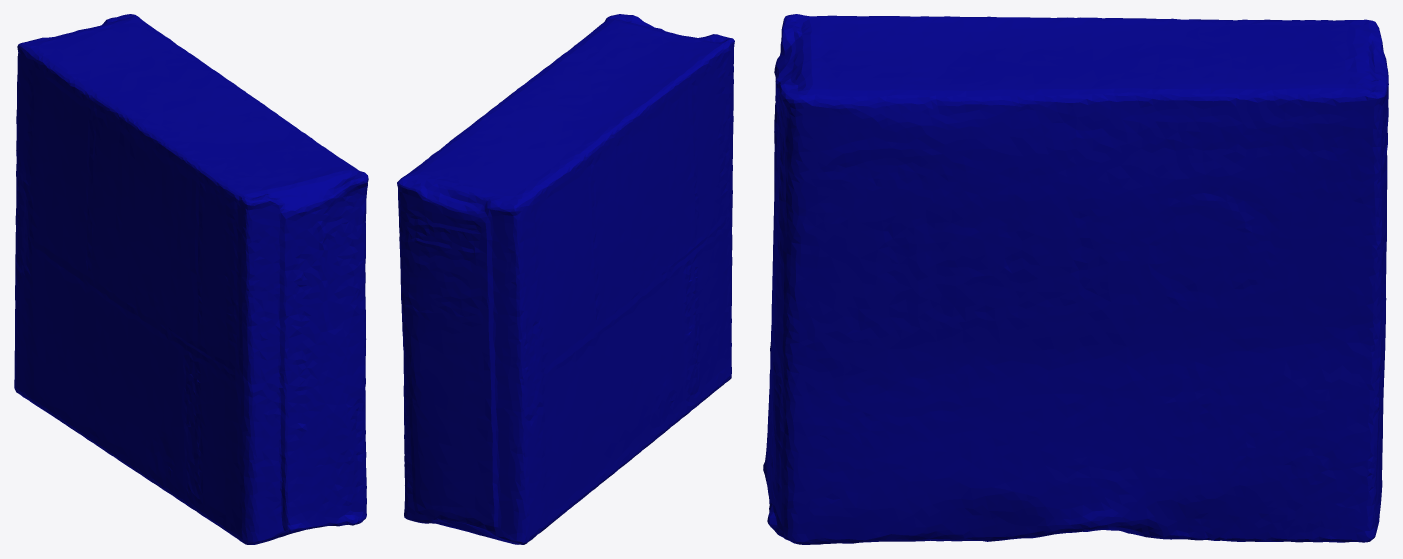
3 views of the same model, side by side, from view 1: azimuth 30°, elevation 25°; view 2: azimuth 150°, elevation 25°; view 3: azimuth 270°, elevation 25° (orthographic). The views are drawn at different scales.
Size of the model in its own units: 0.0305 by 0.0736 by 0.0903.
